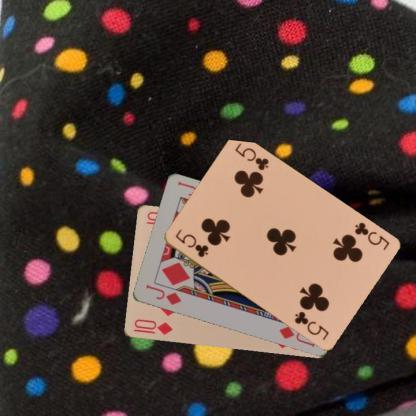10d: (131, 317, 174, 336)
5c: (351, 219, 391, 252), (172, 226, 210, 259)
Jd: (143, 282, 182, 307)
